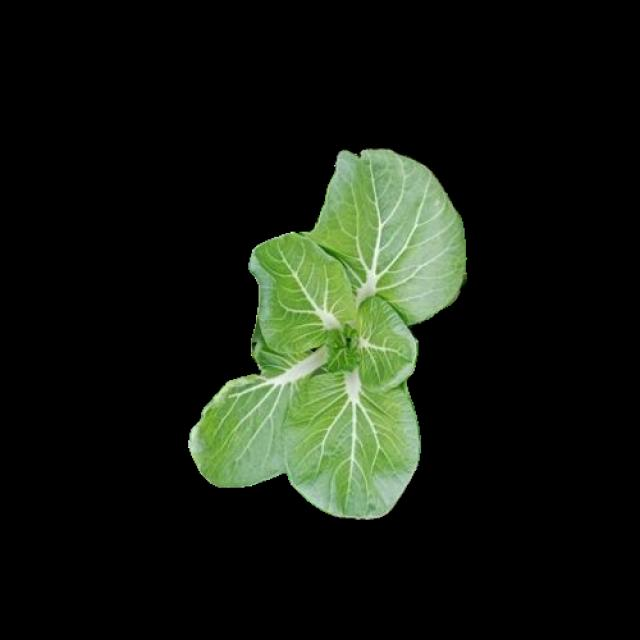healthy: (201, 165, 463, 516)
mature: (193, 152, 466, 518)
